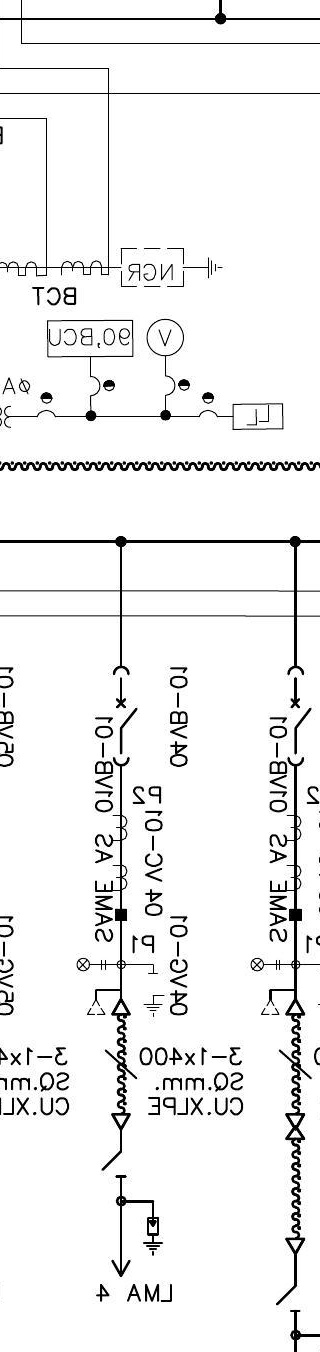22_breaker: (112, 665, 139, 768), (286, 665, 313, 767)
22_ds_la_out: (101, 1150, 164, 1278)
22_gs: (142, 971, 166, 1017)
22_ll: (250, 957, 281, 972), (76, 957, 107, 972)
LL: (231, 402, 285, 432)
NGR_future: (120, 247, 223, 288)
terminator_single: (284, 1236, 306, 1255), (110, 1112, 132, 1130)
terminator_splicing_kits: (285, 1112, 306, 1140)
terminator_w_future: (259, 987, 306, 1017), (85, 987, 132, 1016)
v_m: (145, 318, 185, 357)
